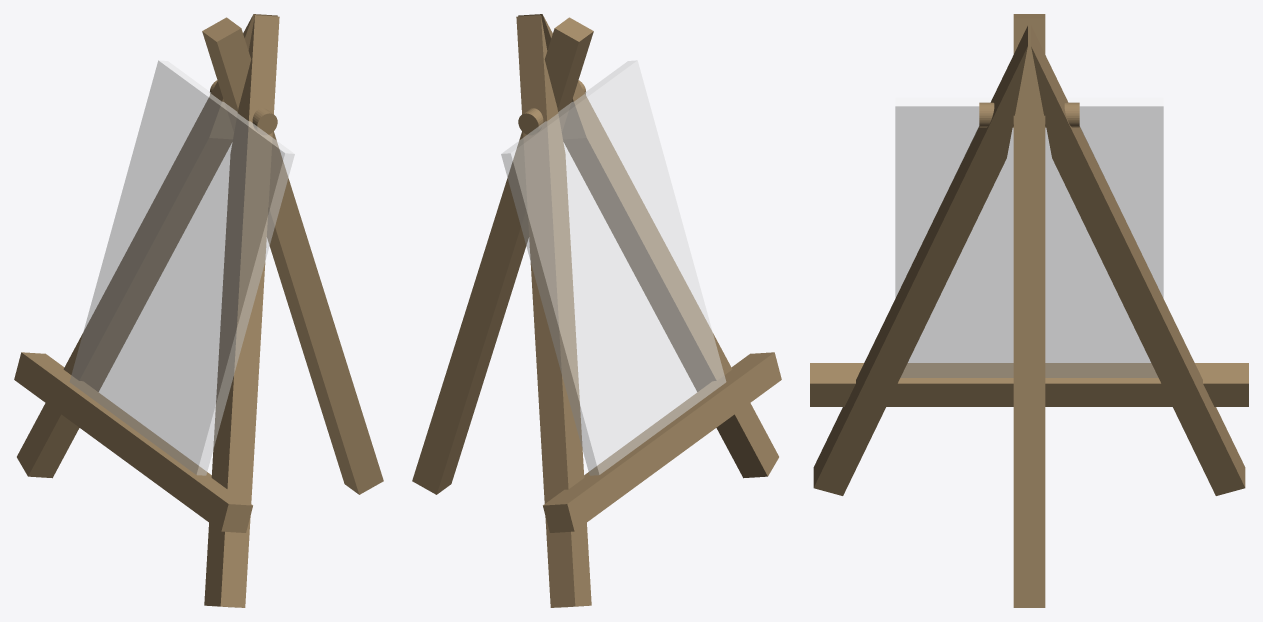
The model's file is plaque.glb.
The picture shows the model from 3 angles, left to right: view 1: azimuth 30°, elevation 25°; view 2: azimuth 150°, elevation 25°; view 3: azimuth 270°, elevation 25°; orthographic projection. The views are drawn at different scales.
Visible parts, largest first — view 1: Cylinder, Cube; view 2: Cylinder, Cube; view 3: Cylinder, Cube.
Boxes of the visible parts, x1,y1,x2,y2 form: Cylinder: (14, 14, 383, 607); Cube: (69, 60, 294, 475); Cylinder: (412, 14, 781, 607); Cube: (501, 60, 726, 475); Cylinder: (810, 14, 1248, 607); Cube: (895, 97, 1163, 377).
Size of the model in its own units: 5.07 by 9.32 by 7.
